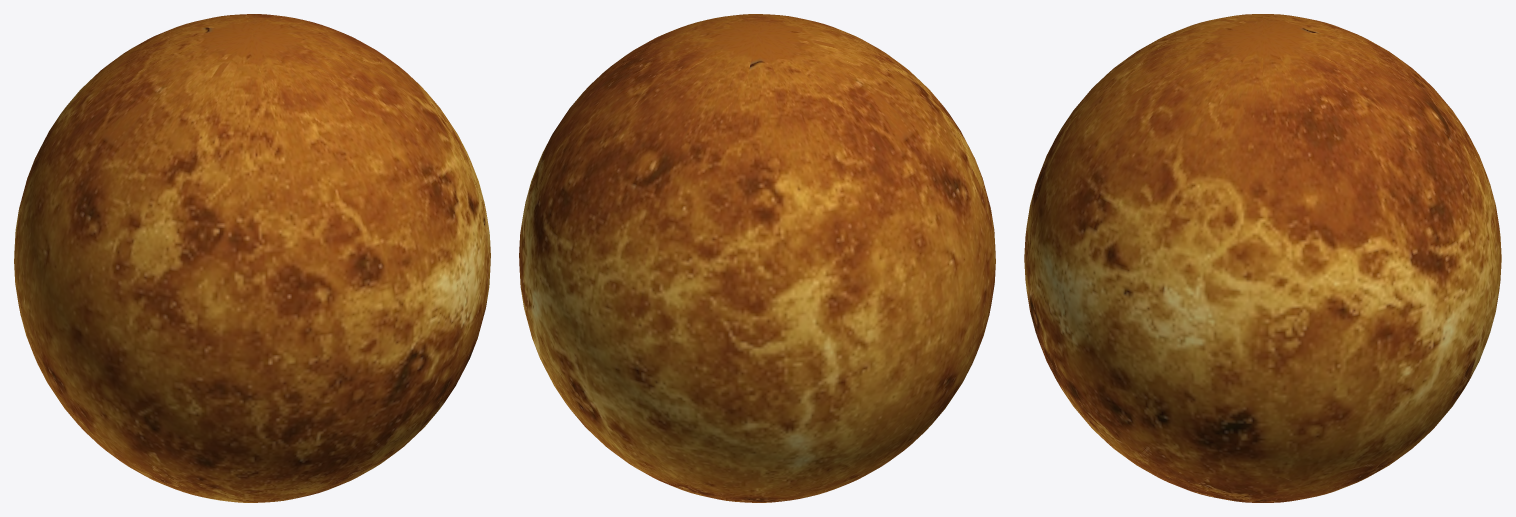
The model's file is planet.glb.
3 renders of one model, left to right at view 1: azimuth 30°, elevation 25°; view 2: azimuth 150°, elevation 25°; view 3: azimuth 270°, elevation 25°, orthographic.
Parts seen in each view (by area): view 1: Surface; view 2: Surface; view 3: Surface.
Boxes of the visible parts, bbox=[...] form: Surface: bbox=[14, 14, 490, 502]; Surface: bbox=[519, 14, 995, 502]; Surface: bbox=[1024, 14, 1501, 502].
Size of the model in its own units: 1.9 by 1.97 by 1.9.
Materials: 1 (1 with a texture image).
